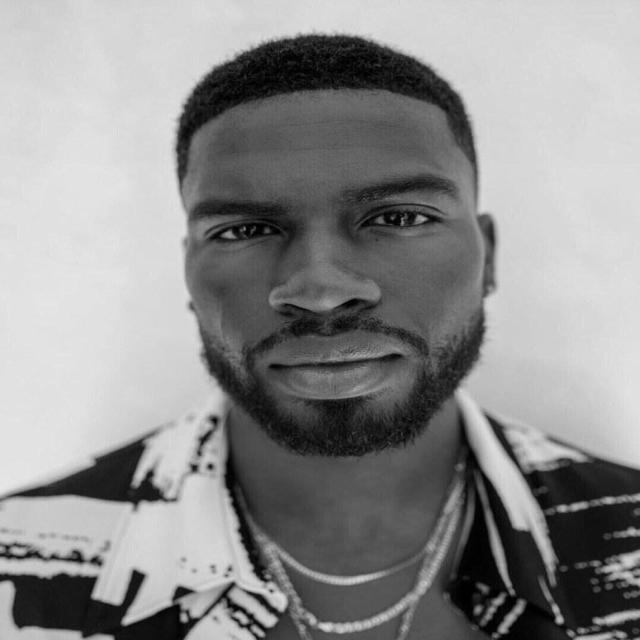mobile_phonerotation: (1, 30, 638, 637)
